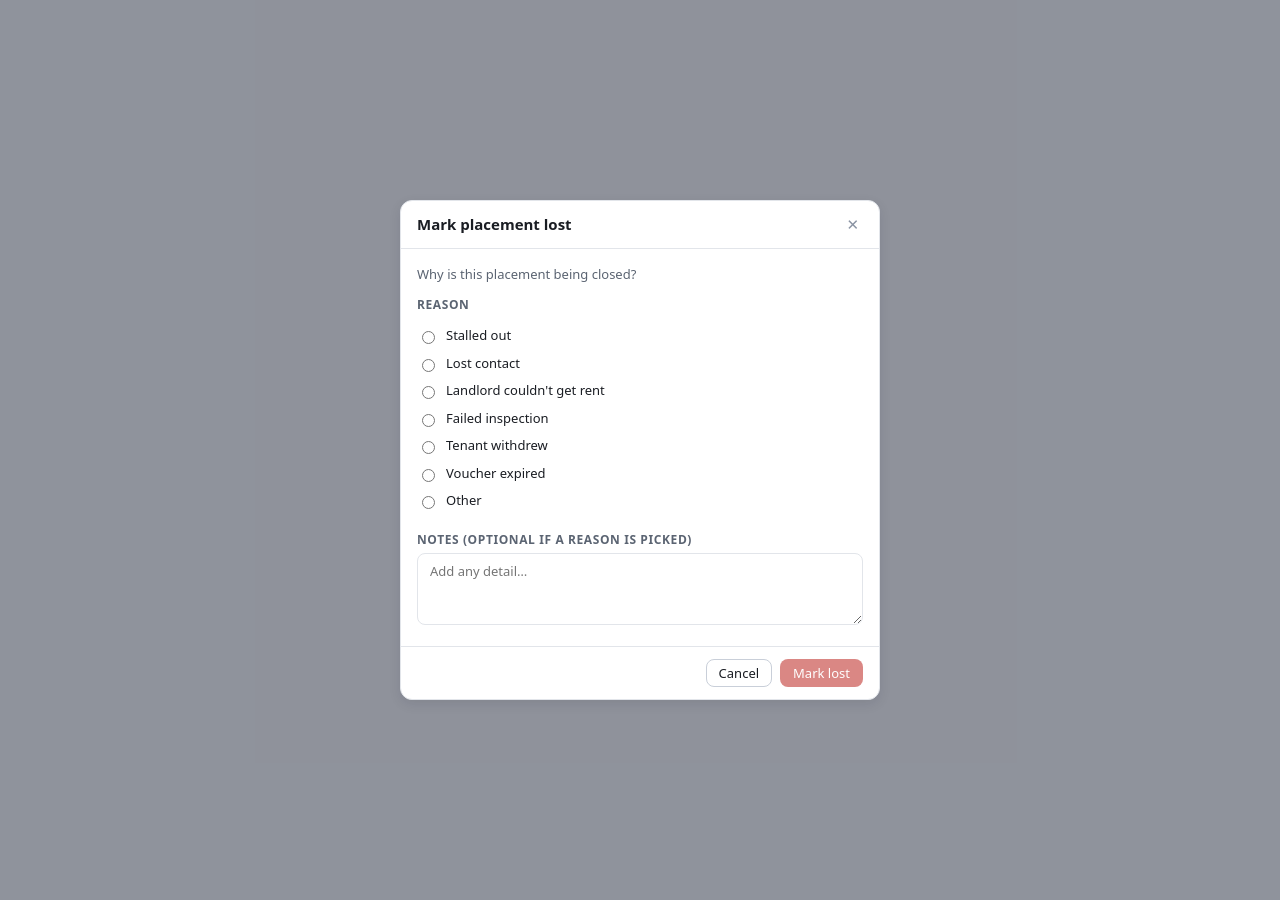
Test: LostReasonModal › disables confirm until a category OR non-empty text is provided
The image size is (1280, 900).
Expected: the button "Mark lost" is disabled, 780,659 -> 863,687
// Picking a category enables it.
Click the radio button labelled "Stalled out". click: (428, 338)
box: 422,331 -> 435,344
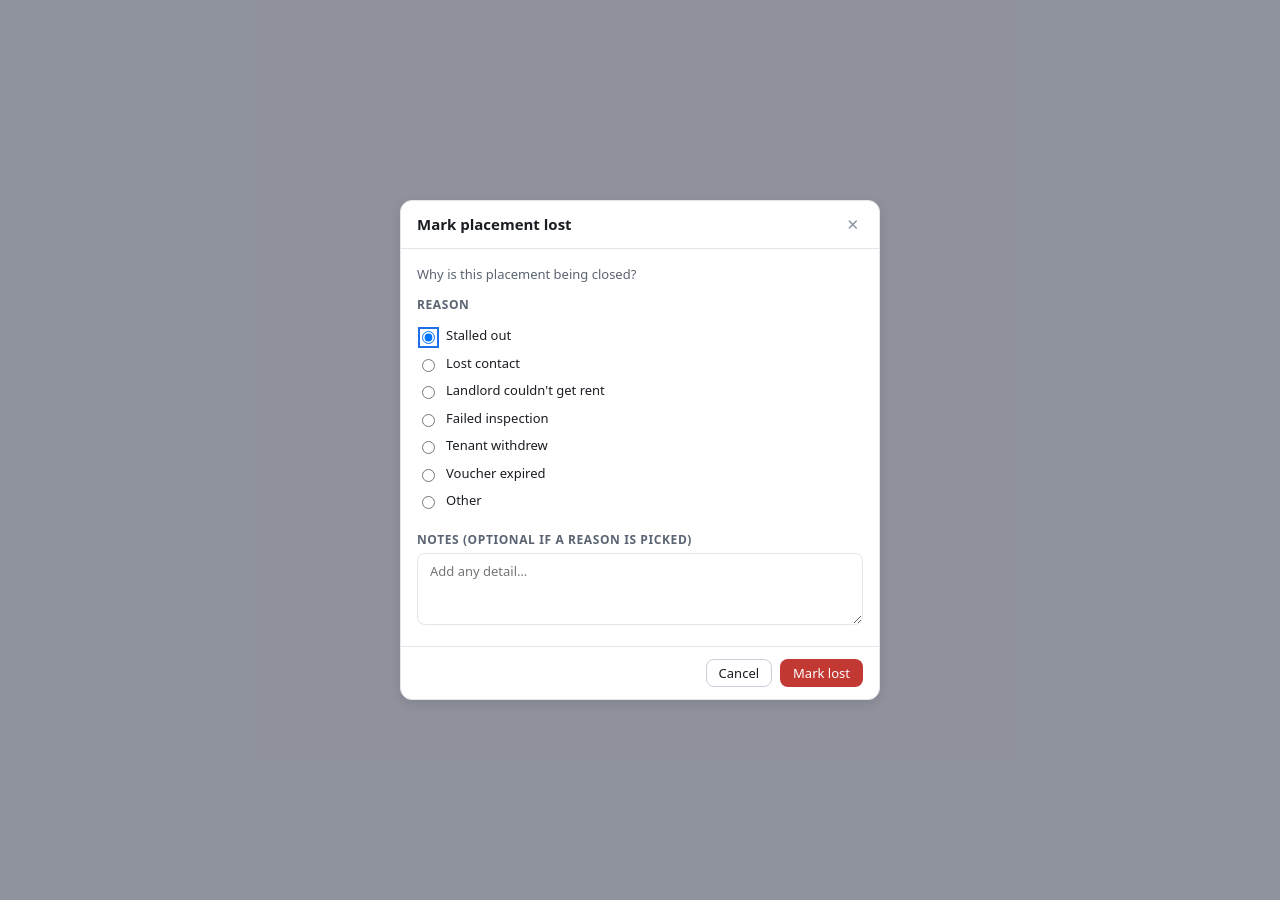
Now the button "Mark lost" is enabled, box 780,659 -> 863,687
